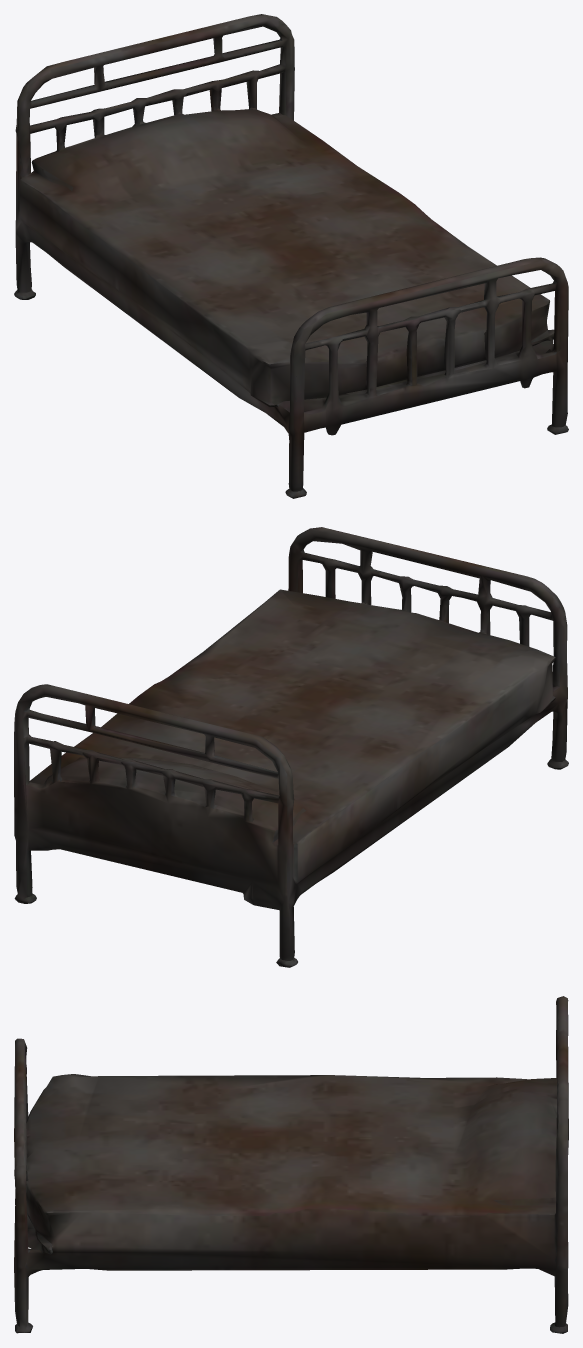
Rendered from plain-iron-asylum-bed-v001.glb.
The picture shows the model from 3 angles, top to bottom: view 1: azimuth 30°, elevation 25°; view 2: azimuth 150°, elevation 25°; view 3: azimuth 270°, elevation 25°; orthographic projection.
Parts seen in each view (by area): view 1: plain-iron-asylum-bed; view 2: plain-iron-asylum-bed; view 3: plain-iron-asylum-bed.
Part boxes in pixels (x1=…): plain-iron-asylum-bed: x1=14, y1=14, x2=568, y2=498; plain-iron-asylum-bed: x1=14, y1=527, x2=568, y2=967; plain-iron-asylum-bed: x1=14, y1=996, x2=568, y2=1333.
Bounding box in the file's own units: 1.34 × 0.9785 × 2.23.
Materials: 1 (1 with a texture image).
